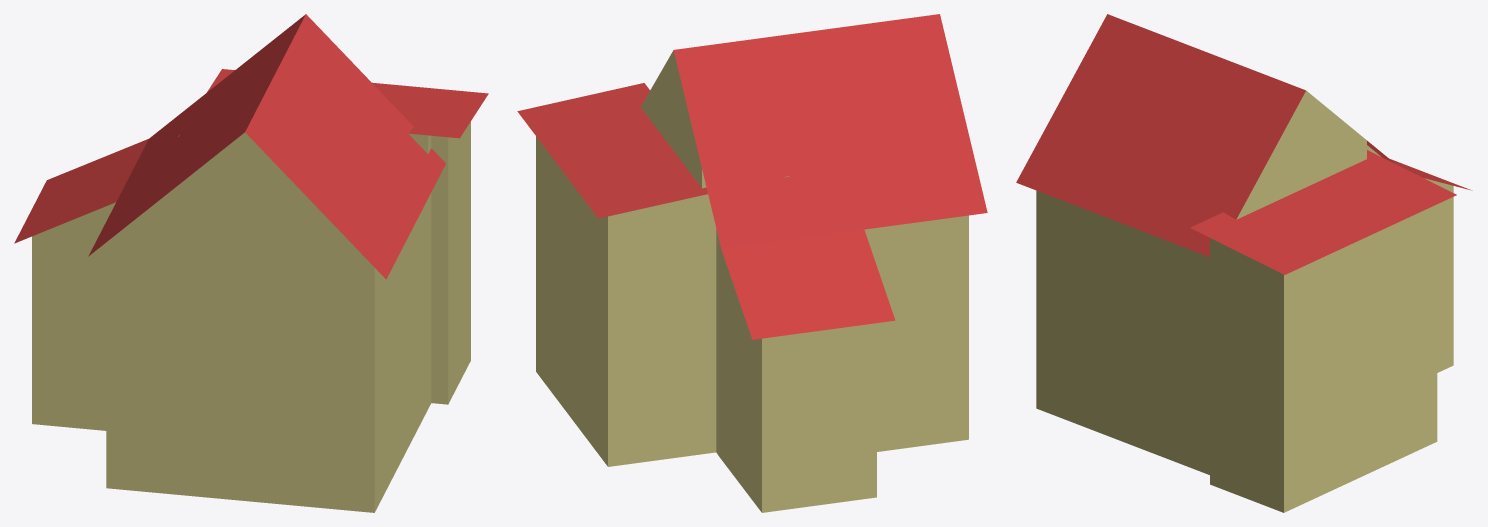
The picture shows the model from 3 angles, left to right: view 1: azimuth 30°, elevation 25°; view 2: azimuth 150°, elevation 25°; view 3: azimuth 270°, elevation 25°; orthographic projection. The views are drawn at different scales.
Bounding box in the file's own units: 16.79 × 16.07 × 13.65.
